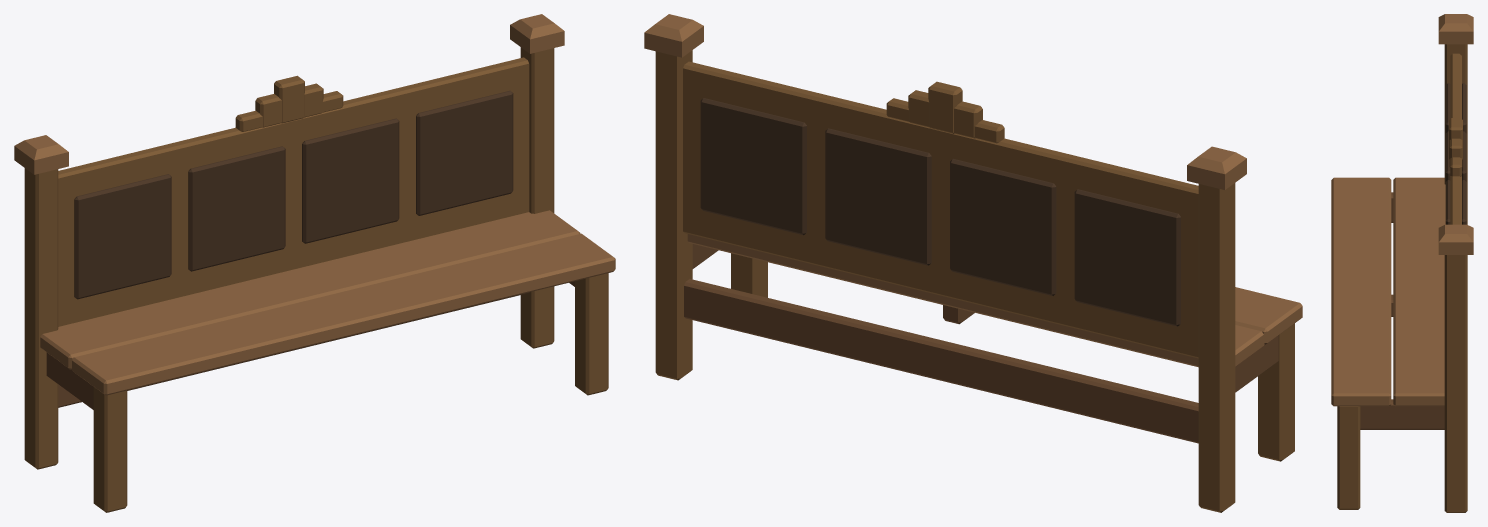
The model's file is mdvl_interiors_pew_01.glb.
3 views of the same model, side by side, from view 1: azimuth 30°, elevation 25°; view 2: azimuth 150°, elevation 25°; view 3: azimuth 270°, elevation 25° (orthographic). The views are drawn at different scales.
Parts seen in each view (by area): view 1: mdvl_interiors_pew_01; view 2: mdvl_interiors_pew_01; view 3: mdvl_interiors_pew_01.
Part boxes in pixels (<box>): mdvl_interiors_pew_01: <box>14,14,615,512</box>; mdvl_interiors_pew_01: <box>644,14,1302,512</box>; mdvl_interiors_pew_01: <box>1331,14,1473,512</box>.
Size of the model in its own units: 1.84 by 1.07 by 0.49.
1 material, 1 textured.
